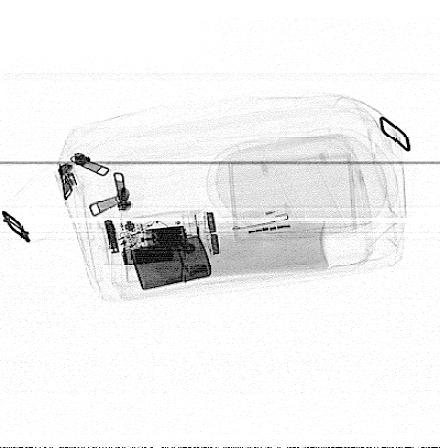Lighter: (130, 234, 213, 291)
